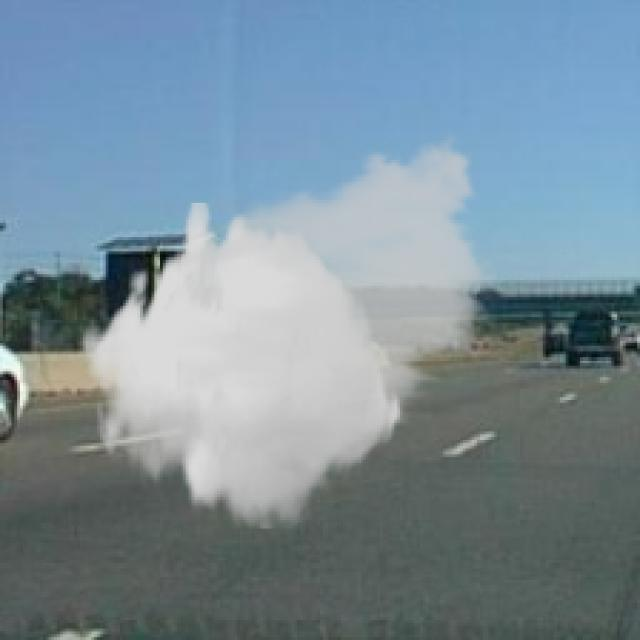Smoke: (80, 126, 500, 528)
